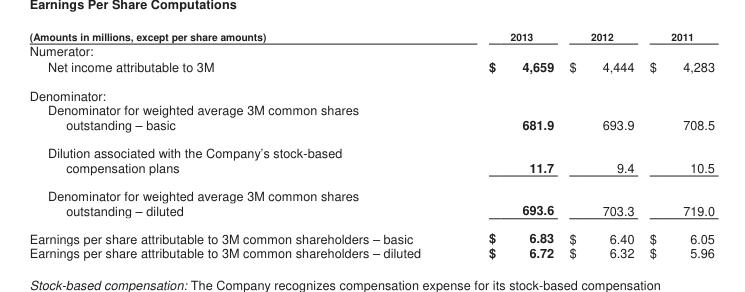table: (28, 29, 713, 261)
table column: (28, 29, 454, 261), (454, 29, 560, 261), (560, 29, 641, 261), (641, 29, 713, 261)
table column header: (28, 29, 713, 42)
table projected row header: (28, 80, 713, 102), (28, 42, 713, 58)
table row: (28, 180, 713, 223), (28, 138, 713, 180), (28, 102, 713, 138), (28, 58, 713, 80), (28, 80, 713, 102), (28, 223, 713, 244), (28, 244, 713, 261), (28, 42, 713, 58), (28, 29, 713, 42)
